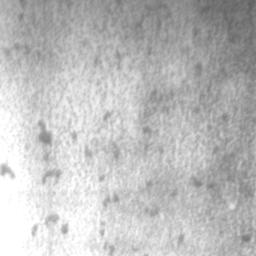Pitted surface: (4, 0, 256, 256), (31, 214, 69, 255), (58, 0, 94, 11), (166, 228, 185, 248), (0, 164, 15, 179)
